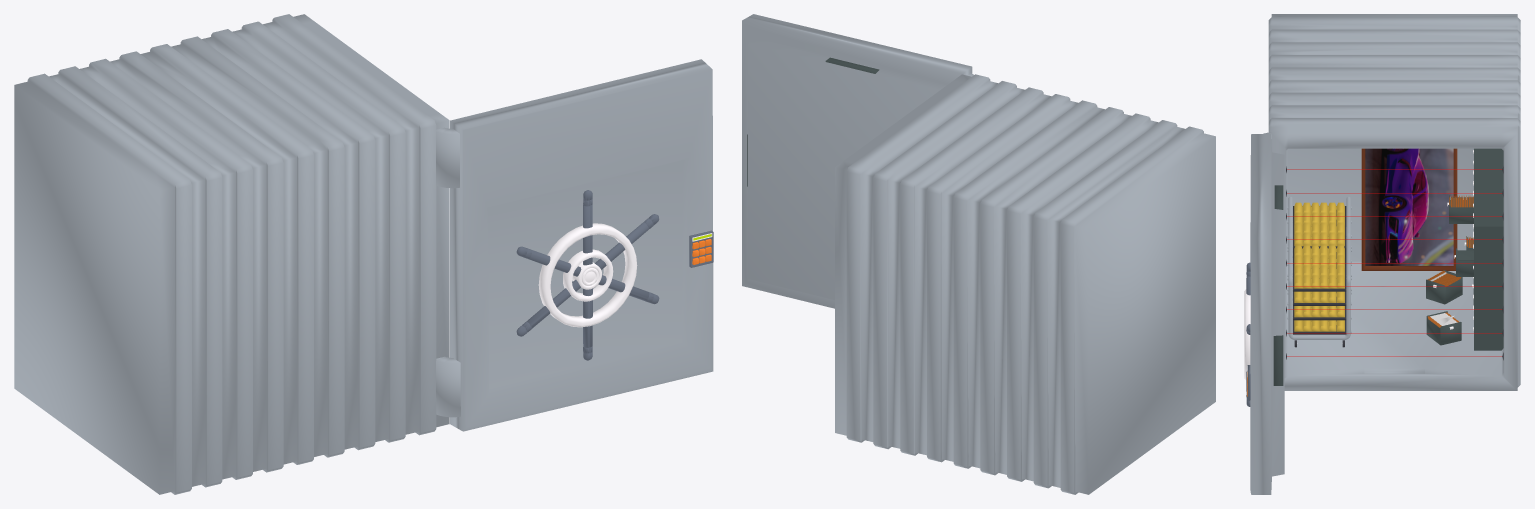
The model's file is safe_hw.glb.
3 renders of one model, left to right at view 1: azimuth 30°, elevation 25°; view 2: azimuth 150°, elevation 25°; view 3: azimuth 270°, elevation 25°, orthographic. The views are drawn at different scales.
Parts seen in each view (by area): view 1: Cube_299, Cube.001_300, Cylinder_5, Plane_301, Cylinder.007_7; view 2: Cube_299, Cube.001_300; view 3: Cube_299, Cube.001_300, Plane.002_303, Cube.016_14, Gold bar.001_273, Gold bar_253, Cylinder.019_298, Cube.153_302, Traybars.001_274, Cube.086_84, Cube.090_88, Cube.011_272 (+6 smaller).
Boxes of the visible parts, x1=… form: Cube_299: x1=14, y1=14, x2=449, y2=494; Cube.001_300: x1=450, y1=59, x2=713, y2=431; Cylinder_5: x1=538, y1=223, x2=637, y2=327; Plane_301: x1=436, y1=127, x2=460, y2=417; Cylinder.007_7: x1=563, y1=249, x2=613, y2=301; Cube_299: x1=835, y1=74, x2=1215, y2=494; Cube.001_300: x1=742, y1=14, x2=972, y2=308; Cube_299: x1=1268, y1=14, x2=1520, y2=390; Cube.001_300: x1=1250, y1=134, x2=1284, y2=494; Plane.002_303: x1=1365, y1=148, x2=1453, y2=265; Cube.016_14: x1=1474, y1=148, x2=1503, y2=350; Gold bar.001_273: x1=1294, y1=245, x2=1344, y2=331; Gold bar_253: x1=1294, y1=202, x2=1344, y2=246; Cylinder.019_298: x1=1287, y1=169, x2=1501, y2=356; Cube.153_302: x1=1361, y1=148, x2=1457, y2=270; Traybars.001_274: x1=1288, y1=239, x2=1350, y2=339; Cube.086_84: x1=1426, y1=270, x2=1462, y2=304; Cube.090_88: x1=1426, y1=311, x2=1461, y2=345; Cube.011_272: x1=1293, y1=248, x2=1346, y2=305.
Size of the model in its own units: 5.28 by 2.9 by 2.76.
4 materials, 4 textured.
